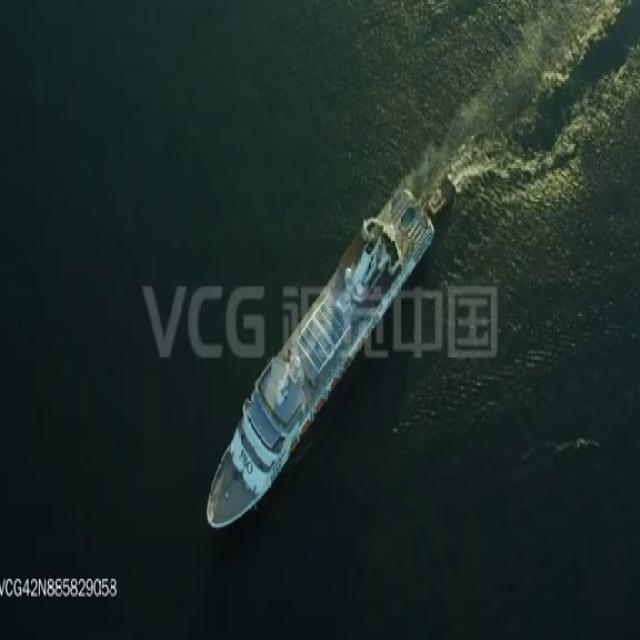passenger ship: (200, 177, 431, 539)
